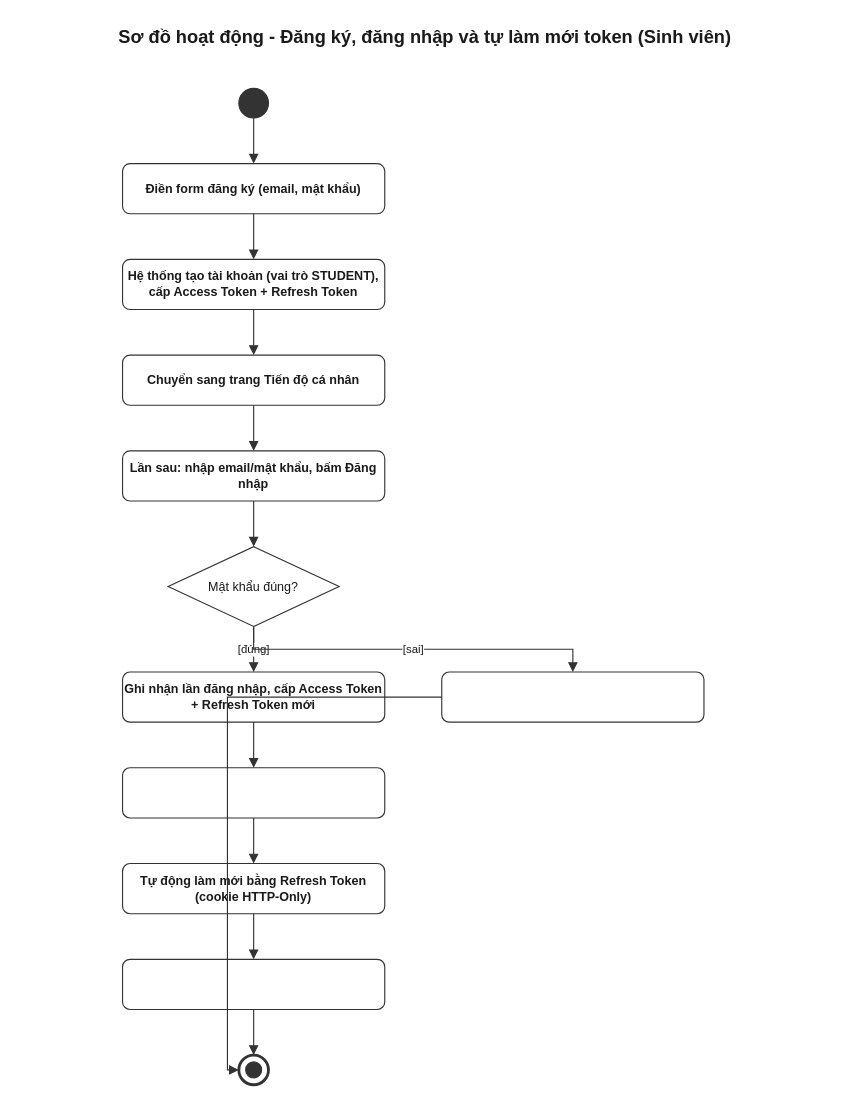
This 848x1106 diagram has some shape labels left out. The shapes that lost their labels are listed below. From the top down, each one's box as (x1, y1, x2, y2) in pixels, then its label:
(441, 671, 704, 722): Hiện 401 Unauthorized
(121, 767, 385, 818): Gọi API nghiệp vụ, nhận 401 vì Access Token hết hạn
(121, 958, 385, 1009): Nhận Access Token mới, tiếp tục thao tác không cần đăng nhập lại
